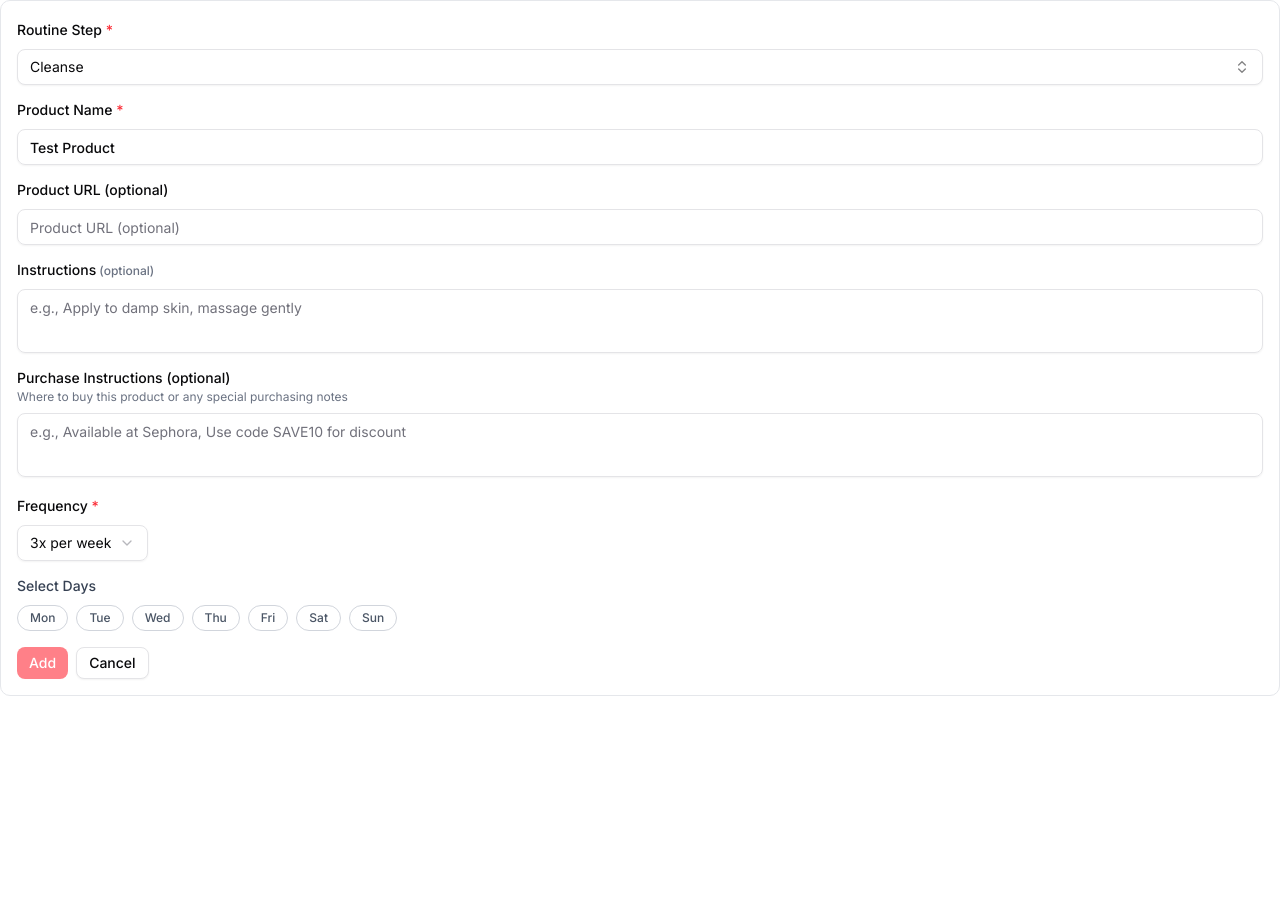
Test: ProductForm › Error Message Interaction Behavior › error message appears when clicking Save with no days selected
Expected: the text "please select exactly 3 days" is not shown
# Click Save button without selecting days
Click the button "Add" at x=43, y=663, box [17,647,68,679]
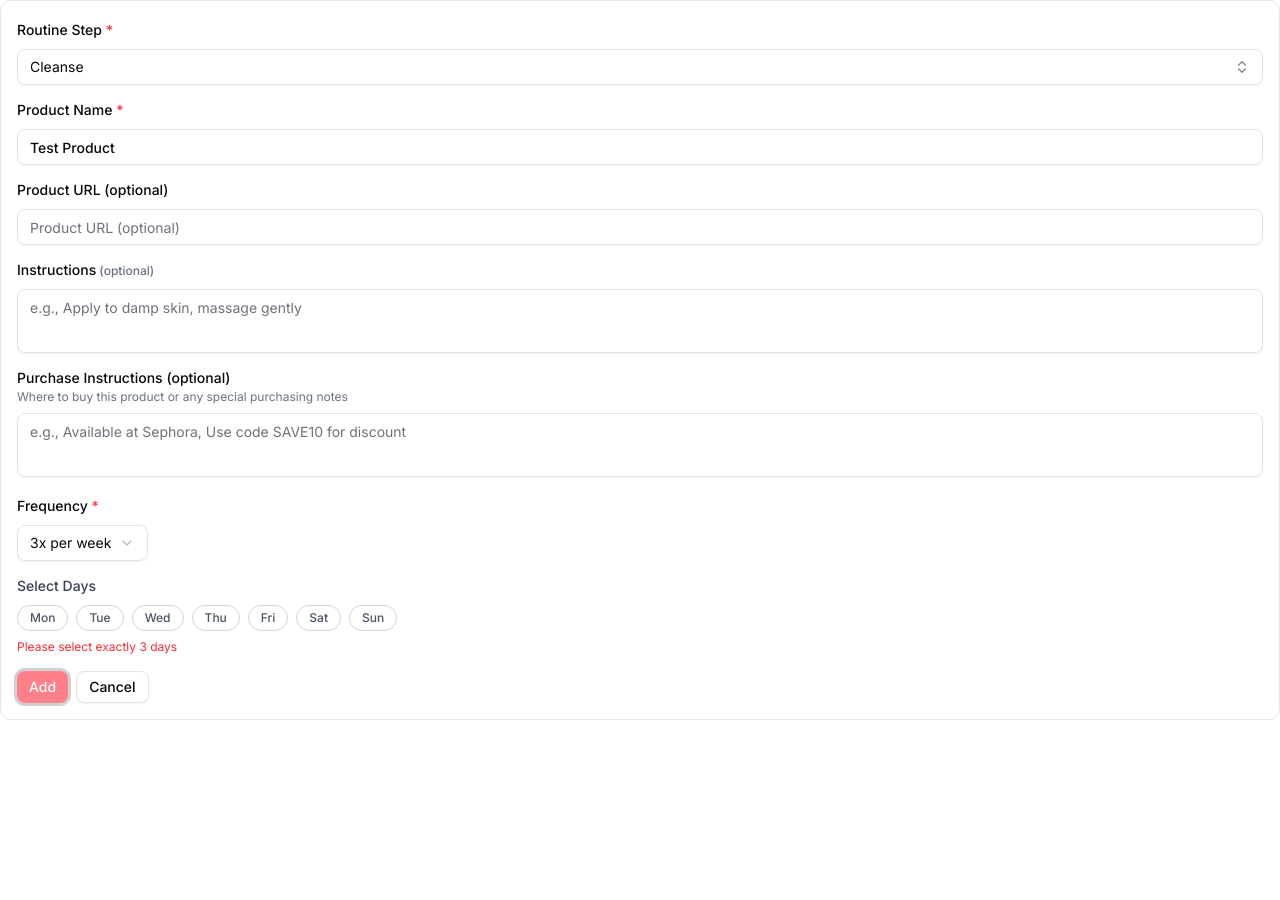
Result: the text "Please select exactly 3 days" is shown at [17,639,177,654]
